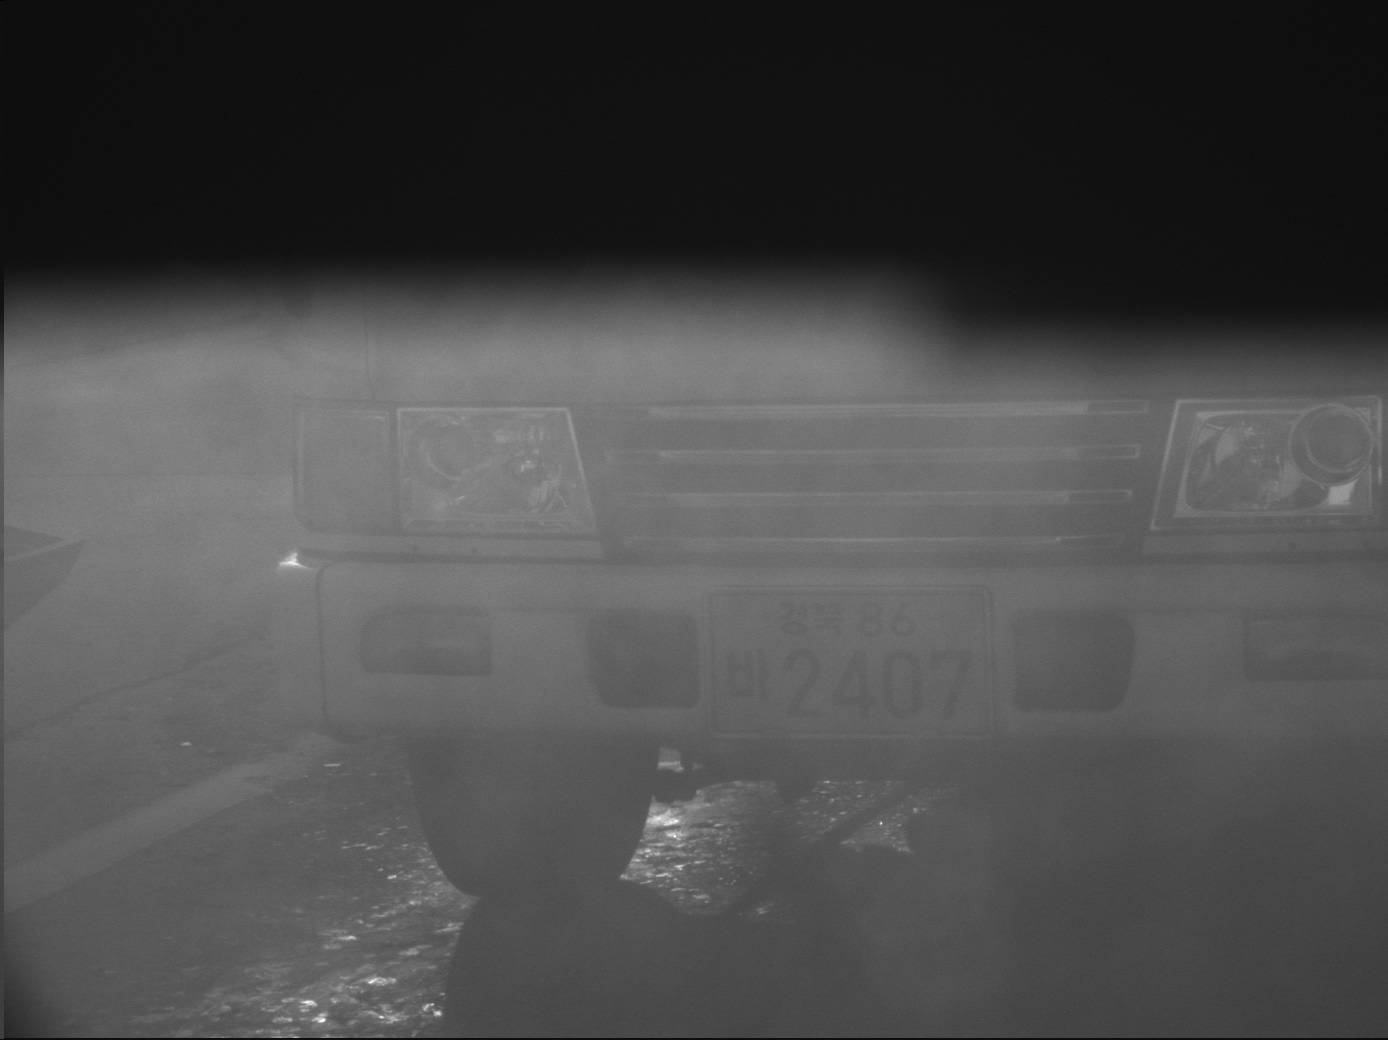car: (284, 5, 1385, 901)
plate: (697, 584, 1014, 742)
